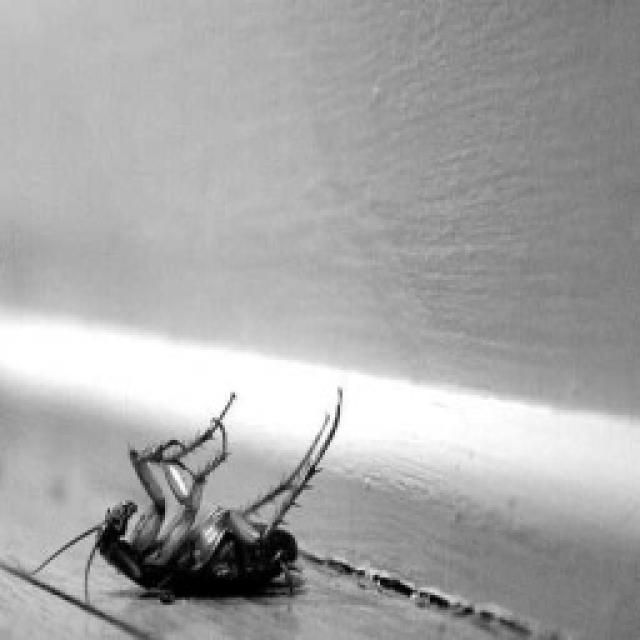cockroach: (26, 386, 384, 618)
